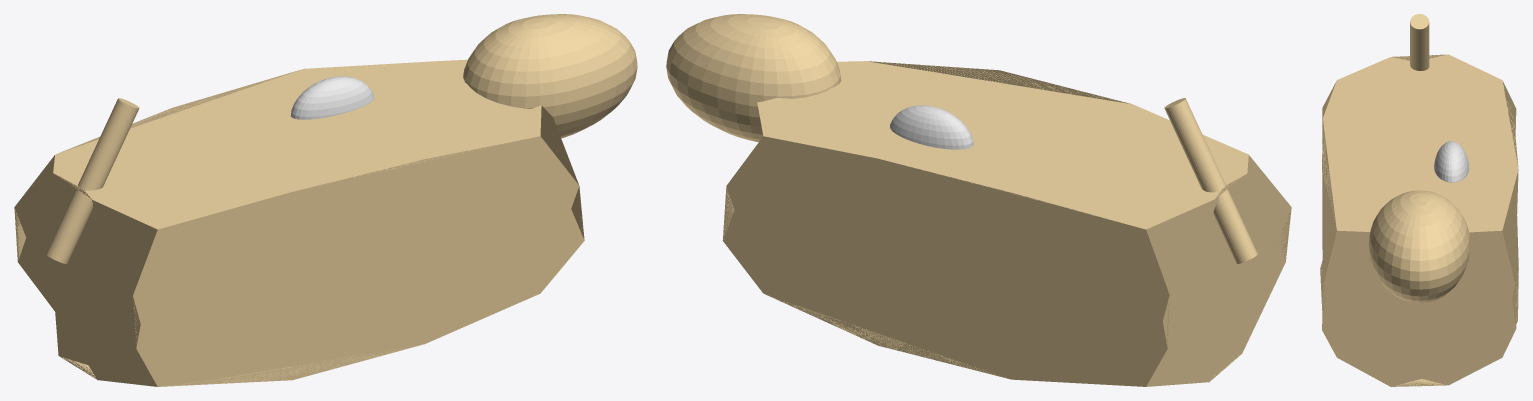
The model's file is bello_high.glb.
3 renders of one model, left to right at view 1: azimuth 30°, elevation 25°; view 2: azimuth 150°, elevation 25°; view 3: azimuth 270°, elevation 25°, orthographic. The views are drawn at different scales.
Parts seen in each view (by area): view 1: Bello_Body_Organic, Bello_Head_Smart, Bello_Tail_Happy, Bello_Lung_1; view 2: Bello_Body_Organic, Bello_Head_Smart, Bello_Tail_Happy, Bello_Lung_1; view 3: Bello_Body_Organic, Bello_Head_Smart, Bello_Lung_1, Bello_Tail_Happy.
Boxes of the visible parts, x1,y1,x2,y2 form: Bello_Body_Organic: (14,59,584,386); Bello_Head_Smart: (463,14,637,138); Bello_Tail_Happy: (46,98,139,263); Bello_Lung_1: (291,76,374,119); Bello_Body_Organic: (722,61,1291,386); Bello_Head_Smart: (666,14,841,142); Bello_Tail_Happy: (1164,98,1257,263); Bello_Lung_1: (890,105,973,149); Bello_Body_Organic: (1320,54,1518,386); Bello_Head_Smart: (1368,190,1470,302); Bello_Lung_1: (1434,141,1468,182); Bello_Tail_Happy: (1410,14,1429,70).
Size of the model in its own units: 8.56 by 3.67 by 3.12.
